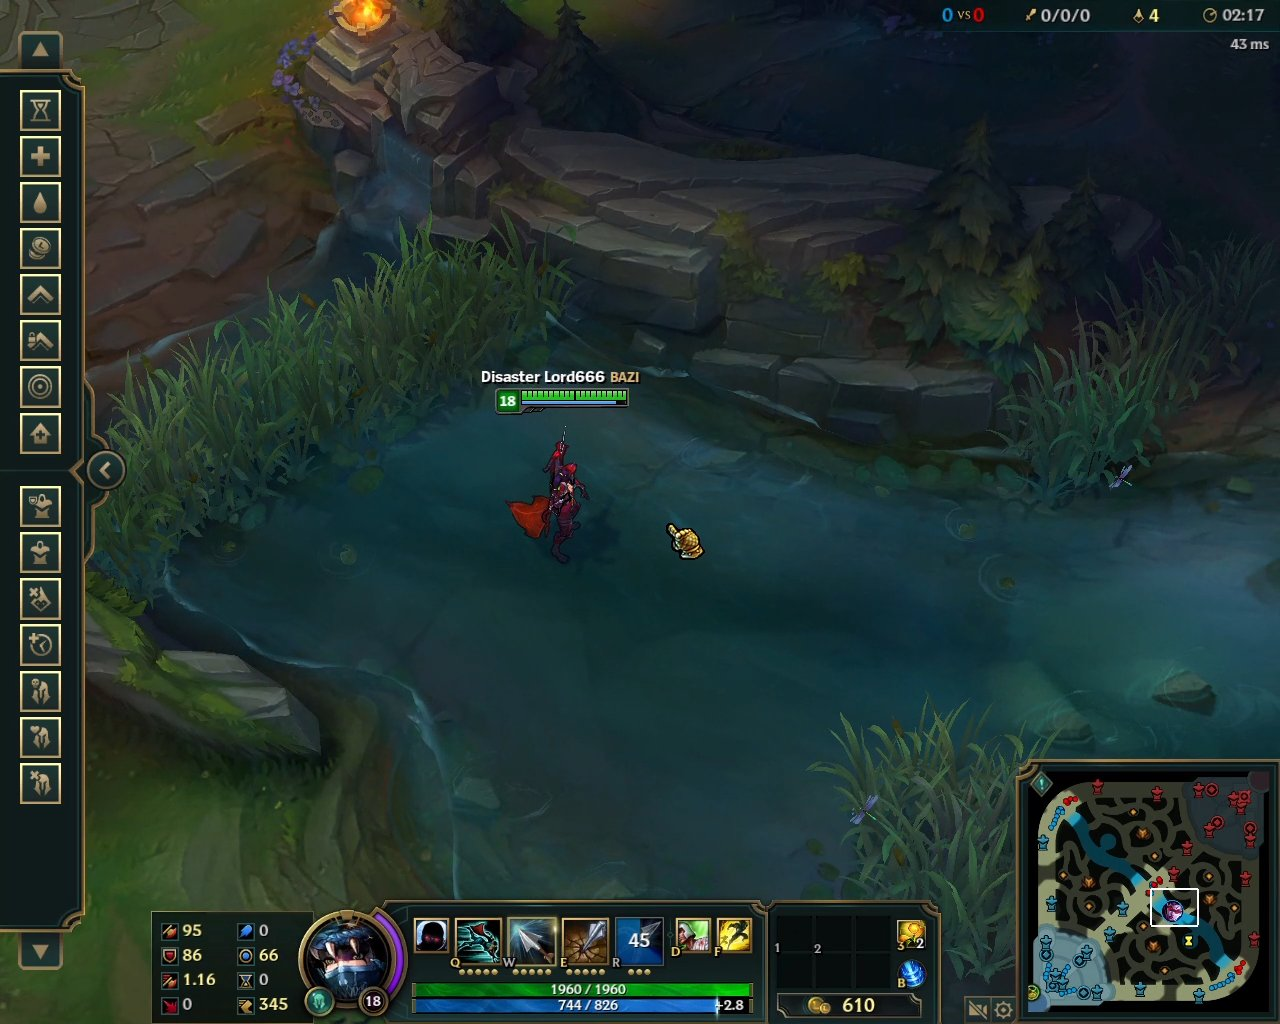Vayne: (503, 421, 600, 569)
